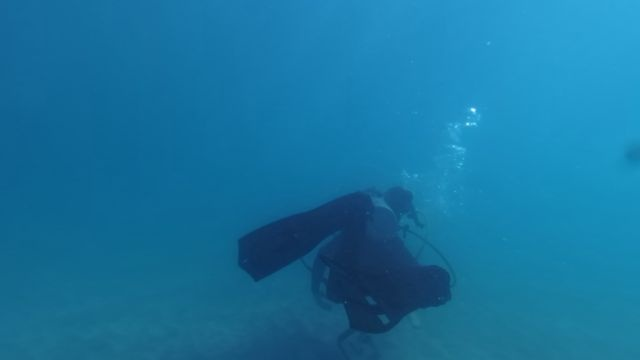Diver: (228, 164, 488, 347)
